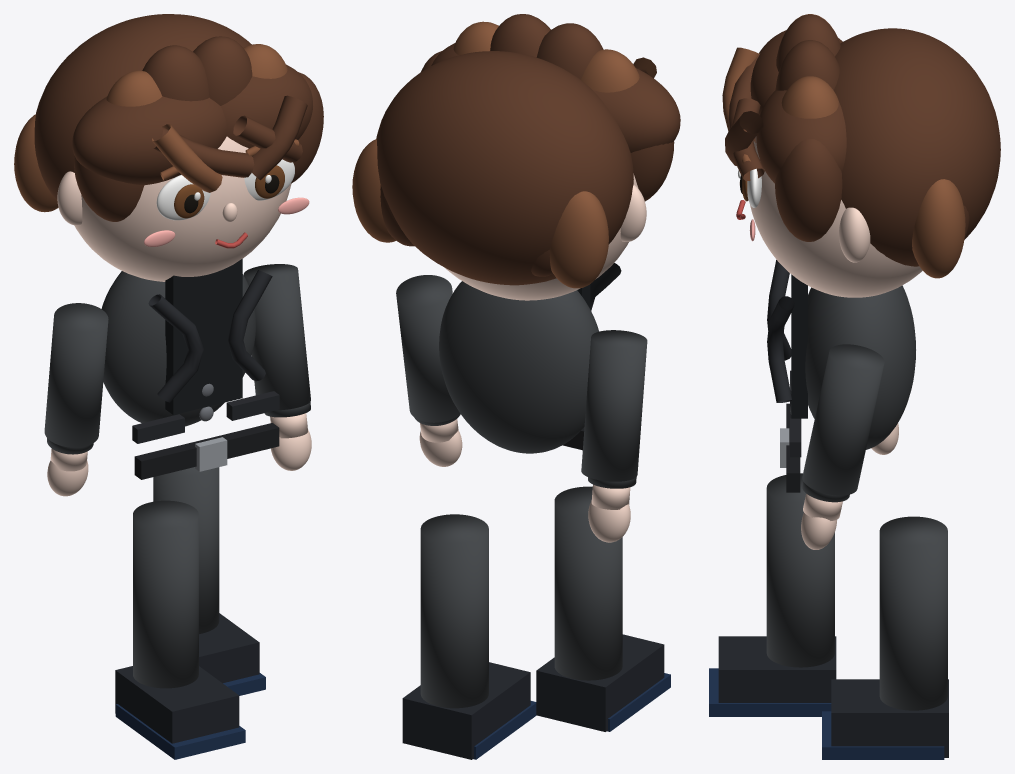
File: guest-04-master.glb
The picture shows the model from 3 angles, left to right: view 1: azimuth 30°, elevation 25°; view 2: azimuth 150°, elevation 25°; view 3: azimuth 270°, elevation 25°; orthographic projection. The views are drawn at different scales.
Parts seen in each view (by area): view 1: Head, Suit trouser -1, Hair back, Side part left, Suit torso, Shirt front, Suit sleeve -1, Suit sleeve 1, Dress shoe -1, Suit trouser 1, Side part right, Leather belt (+27 smaller); view 2: Hair back, Suit torso, Suit trouser 1, Suit trouser -1, Suit sleeve -1, Dress shoe -1, Dress shoe 1, Suit sleeve 1, Short hair lock 1, Side part left, Short hair lock 7, Guest04 wavy crown lock 3 (+13 smaller); view 3: Hair back, Suit trouser 1, Suit trouser -1, Suit torso, Suit sleeve 1, Head, Dress shoe 1, Dress shoe -1, Guest04 wavy crown lock 6, Side part right, Short hair lock 7, Shirt front (+16 smaller).
Part boxes in pixels (x1,y1,x2,y2): Head: [74, 136, 291, 281]; Suit trouser -1: [133, 500, 198, 688]; Hair back: [34, 14, 251, 201]; Side part left: [72, 96, 227, 185]; Suit torso: [101, 271, 255, 426]; Shirt front: [165, 259, 242, 414]; Suit sleeve -1: [44, 303, 108, 447]; Suit sleeve 1: [243, 264, 310, 410]; Dress shoe -1: [115, 666, 239, 743]; Suit trouser 1: [153, 467, 219, 633]; Side part right: [220, 64, 312, 148]; Leather belt: [134, 423, 279, 479]; Hair back: [376, 51, 633, 285]; Suit torso: [439, 281, 598, 453]; Suit trouser 1: [420, 514, 488, 708]; Suit trouser -1: [554, 486, 622, 680]; Suit sleeve -1: [581, 330, 647, 481]; Dress shoe -1: [536, 634, 664, 731]; Dress shoe 1: [402, 662, 530, 759]; Suit sleeve 1: [396, 275, 460, 422]; Short hair lock 1: [549, 191, 608, 288]; Side part left: [593, 68, 680, 152]; Short hair lock 7: [352, 139, 395, 242]; Guest04 wavy crown lock 3: [536, 23, 603, 79]; Hair back: [833, 28, 1000, 266]; Suit trouser 1: [879, 516, 947, 710]; Suit trouser -1: [766, 473, 834, 667]; Suit torso: [805, 285, 915, 449]; Suit sleeve 1: [802, 344, 884, 495]; Head: [750, 136, 922, 297]; Dress shoe 1: [831, 679, 948, 757]; Dress shoe -1: [718, 636, 836, 702]; Guest04 wavy crown lock 6: [775, 139, 842, 241]; Side part right: [756, 90, 846, 183]; Short hair lock 7: [912, 179, 965, 278]; Shirt front: [791, 274, 807, 418].
Size of the model in its own units: 1.25 by 3.25 by 1.24.
